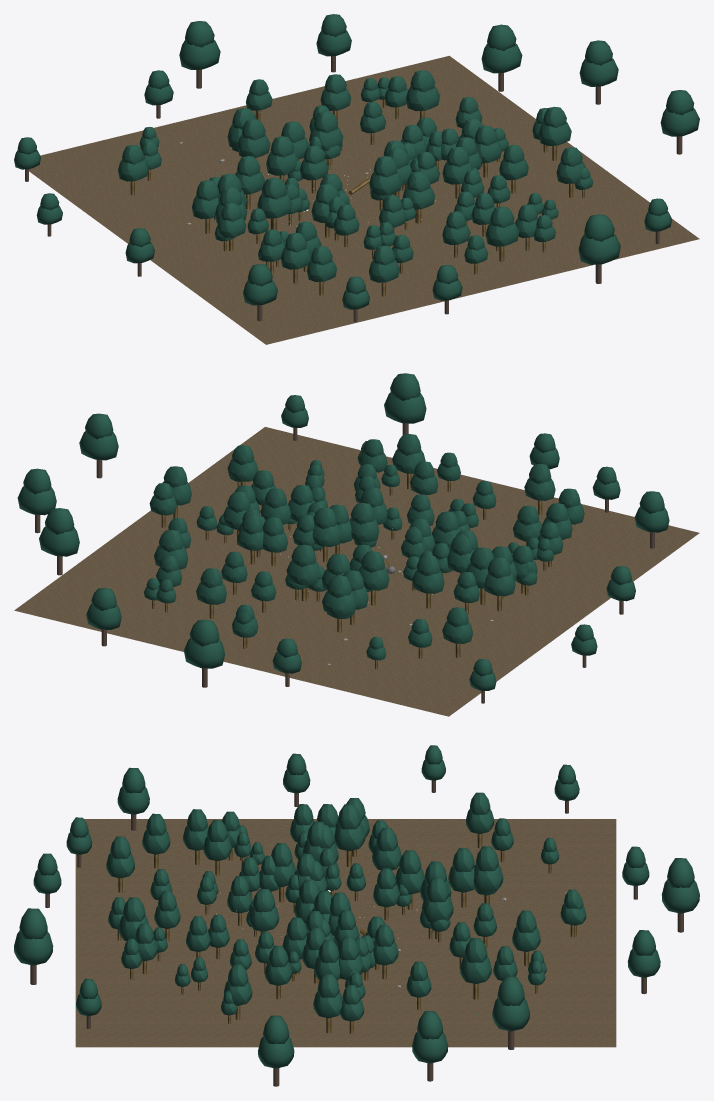
The model's file is adi-09-hidimba.glb.
The picture shows the model from 3 angles, top to bottom: view 1: azimuth 30°, elevation 25°; view 2: azimuth 150°, elevation 25°; view 3: azimuth 270°, elevation 25°; orthographic projection. The views are drawn at different scales.
Visible parts, largest first — view 1: GEO-ground, GEO-tree-canopy.212, GEO-tree-canopy.196, GEO-tree-canopy.192, GEO-tree-canopy.216, GEO-tree-canopy.190, GEO-tree-canopy.194, GEO-tree-canopy.206, GEO-tree-canopy.213, GEO-tree-canopy.124, GEO-tree-canopy.002, GEO-tree-canopy.197 (+13 smaller); view 2: GEO-ground, GEO-tree-canopy.212, GEO-tree-canopy.196, GEO-tree-canopy.192, GEO-tree-canopy.216, GEO-tree-canopy.190, GEO-tree-canopy.194, GEO-tree-canopy.206, GEO-tree-canopy.213, GEO-tree-canopy.024, GEO-tree-canopy.197, GEO-tree-canopy.082 (+9 smaller); view 3: GEO-ground, GEO-tree-canopy.212, GEO-tree-canopy.196, GEO-tree-canopy.192, GEO-tree-canopy.216, GEO-tree-canopy.190, GEO-tree-canopy.213, GEO-tree-canopy.194, GEO-tree-canopy.197, GEO-tree-canopy.206, GEO-tree-canopy.193, GEO-tree-canopy.164 (+11 smaller).
Boxes of the visible parts, left/top/right/bottom form: GEO-ground: left=29, top=55, right=699, bottom=344; GEO-tree-canopy.212: left=578, top=234, right=620, bottom=264; GEO-tree-canopy.196: left=179, top=40, right=220, bottom=69; GEO-tree-canopy.192: left=481, top=43, right=522, bottom=73; GEO-tree-canopy.216: left=660, top=108, right=699, bottom=136; GEO-tree-canopy.190: left=579, top=58, right=618, bottom=86; GEO-tree-canopy.194: left=316, top=30, right=351, bottom=56; GEO-tree-canopy.206: left=243, top=280, right=277, bottom=305; GEO-tree-canopy.213: left=584, top=214, right=614, bottom=241; GEO-tree-canopy.124: left=406, top=86, right=439, bottom=111; GEO-tree-canopy.002: left=485, top=222, right=519, bottom=246; GEO-tree-canopy.197: left=185, top=21, right=214, bottom=47; GEO-ground: left=14, top=427, right=699, bottom=716; GEO-tree-canopy.212: left=384, top=392, right=426, bottom=423; GEO-tree-canopy.196: left=184, top=638, right=224, bottom=668; GEO-tree-canopy.192: left=39, top=526, right=79, bottom=556; GEO-tree-canopy.216: left=79, top=431, right=118, bottom=460; GEO-tree-canopy.190: left=17, top=486, right=56, bottom=515; GEO-tree-canopy.194: left=86, top=604, right=121, bottom=629; GEO-tree-canopy.206: left=634, top=507, right=669, bottom=532; GEO-tree-canopy.213: left=390, top=373, right=420, bottom=400; GEO-tree-canopy.024: left=322, top=591, right=356, bottom=616; GEO-tree-canopy.197: left=189, top=619, right=219, bottom=646; GEO-tree-canopy.082: left=286, top=560, right=318, bottom=585; GEO-ground: left=75, top=819, right=616, bottom=1047; GEO-tree-canopy.212: left=14, top=931, right=53, bottom=965; GEO-tree-canopy.196: left=661, top=880, right=699, bottom=913; GEO-tree-canopy.192: left=492, top=998, right=529, bottom=1031; GEO-tree-canopy.216: left=258, top=1036, right=294, bottom=1068; GEO-tree-canopy.190: left=412, top=1032, right=448, bottom=1063; GEO-tree-canopy.213: left=19, top=908, right=47, bottom=939; GEO-tree-canopy.194: left=627, top=949, right=660, bottom=977; GEO-tree-canopy.197: left=667, top=858, right=694, bottom=887; GEO-tree-canopy.206: left=117, top=786, right=149, bottom=814; GEO-tree-canopy.193: left=497, top=976, right=524, bottom=1005; GEO-tree-canopy.164: left=334, top=823, right=365, bottom=851.
Bounding box in the file's own units: 175 × 20.03 × 165.
10 materials, 2 textured.
